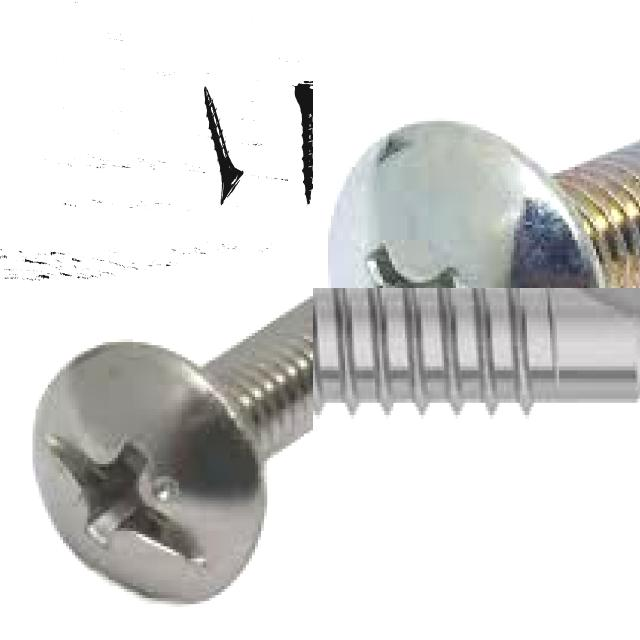Screw: (29, 297, 313, 604), (322, 118, 640, 288), (313, 288, 640, 407), (204, 85, 244, 204), (295, 79, 313, 204)
